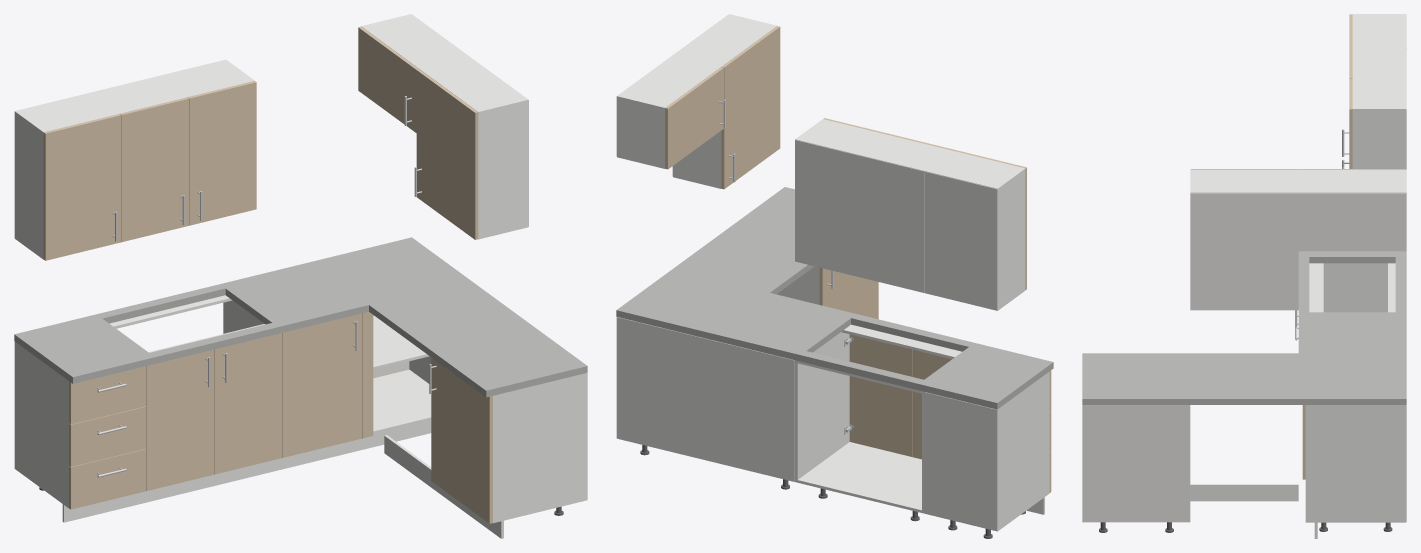
File: kitchen_corner.glb
The picture shows the model from 3 angles, left to right: view 1: azimuth 30°, elevation 25°; view 2: azimuth 150°, elevation 25°; view 3: azimuth 270°, elevation 25°; orthographic projection. The views are drawn at different scales.
Visible parts, largest first — view 1: 42:countertop, 67:countertop2, 59:base2[1].side.right, 49:wall[0].doors.door[1], 39:base[2].doors.door[1], 56:wall[1].doors.door[1], 57:wall[1].doors.door[2], 30:base[1].doors.door[1], 31:base[1].doors.door[2], 80:wall2[1].doors.door[1], 65:base2[1].doors.door[1], 1:base[0].side.left (+17 smaller); view 2: 37:base[2].back, 42:countertop, 54:wall[1].back, 47:wall[0].back, 6:base[0].back, 67:countertop2, 80:wall2[1].doors.door[1], 1:base[0].side.left, 31:base[1].doors.door[2], 26:base[1].side.right, 27:base[1].bottom, 73:wall2[0].doors.door[1] (+11 smaller); view 3: 78:wall2[1].back, 63:base2[1].back, 42:countertop, 33:base[2].side.right, 67:countertop2, 72:wall2[0].back, 51:wall[1].side.right, 25:base[1].side.left, 53:wall[1].top, 71:wall2[0].top, 77:wall2[1].top, 66:kitchen.plinth2 (+3 smaller).
Part boxes in pixels (left/top/right/bottom): 42:countertop: left=14, top=237, right=469, bottom=383; 67:countertop2: left=369, top=280, right=587, bottom=397; 59:base2[1].side.right: left=493, top=373, right=587, bottom=523; 49:wall[0].doors.door[1]: left=43, top=114, right=121, bottom=260; 39:base[2].doors.door[1]: left=282, top=313, right=361, bottom=457; 56:wall[1].doors.door[1]: left=120, top=97, right=188, bottom=242; 57:wall[1].doors.door[2]: left=187, top=81, right=256, bottom=225; 30:base[1].doors.door[1]: left=146, top=349, right=214, bottom=490; 31:base[1].doors.door[2]: left=214, top=333, right=281, bottom=474; 80:wall2[1].doors.door[1]: left=416, top=69, right=478, bottom=239; 65:base2[1].doors.door[1]: left=431, top=357, right=492, bottom=523; 1:base[0].side.left: left=14, top=341, right=68, bottom=508; 37:base[2].back: left=616, top=317, right=794, bottom=481; 42:countertop: left=616, top=269, right=1053, bottom=409; 54:wall[1].back: left=795, top=140, right=924, bottom=292; 47:wall[0].back: left=924, top=171, right=997, bottom=310; 6:base[0].back: left=924, top=392, right=997, bottom=531; 67:countertop2: left=673, top=187, right=814, bottom=294; 80:wall2[1].doors.door[1]: left=721, top=26, right=780, bottom=189; 1:base[0].side.left: left=997, top=371, right=1049, bottom=531; 31:base[1].doors.door[2]: left=849, top=334, right=912, bottom=456; 26:base[1].side.right: left=795, top=332, right=849, bottom=482; 27:base[1].bottom: left=797, top=442, right=921, bottom=512; 73:wall2[0].doors.door[1]: left=665, top=67, right=723, bottom=169; 78:wall2[1].back: left=1190, top=193, right=1298, bottom=309; 63:base2[1].back: left=1082, top=405, right=1189, bottom=522; 42:countertop: left=1298, top=251, right=1406, bottom=404; 33:base[2].side.right: left=1305, top=405, right=1405, bottom=522; 67:countertop2: left=1082, top=353, right=1298, bottom=404; 72:wall2[0].back: left=1299, top=193, right=1406, bottom=251; 51:wall[1].side.right: left=1352, top=108, right=1405, bottom=168; 25:base[1].side.left: left=1323, top=263, right=1387, bottom=312; 53:wall[1].top: left=1352, top=49, right=1405, bottom=107; 71:wall2[0].top: left=1301, top=170, right=1403, bottom=192; 77:wall2[1].top: left=1193, top=170, right=1295, bottom=192; 66:kitchen.plinth2: left=1190, top=484, right=1298, bottom=501.
Bounding box in the file's own units: 2.35 × 2.12 × 1.8.
